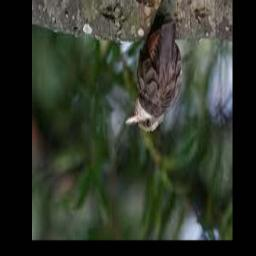Cuckoo: (125, 18, 182, 132)
